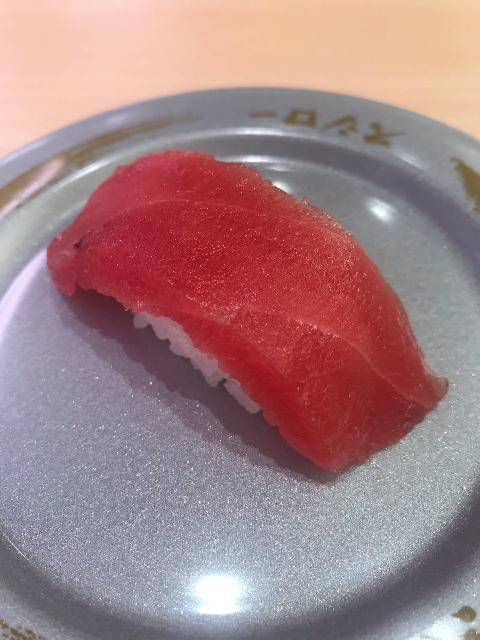janwhite: (18, 69, 480, 627)
